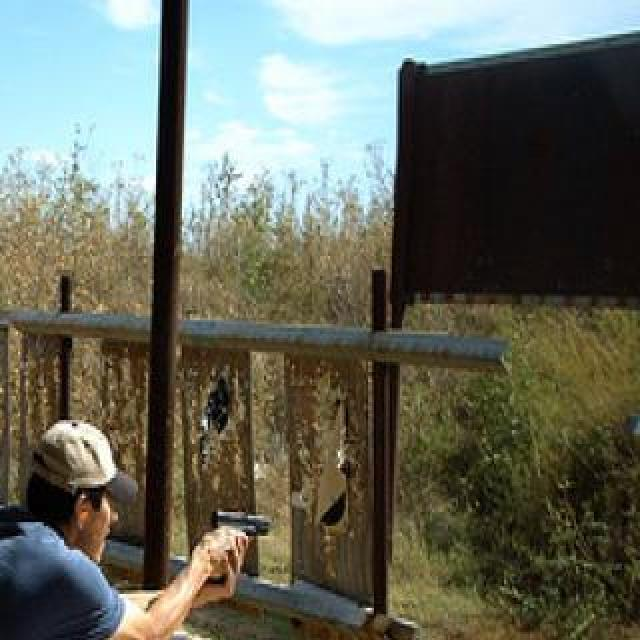Guns: (207, 497, 283, 568)
